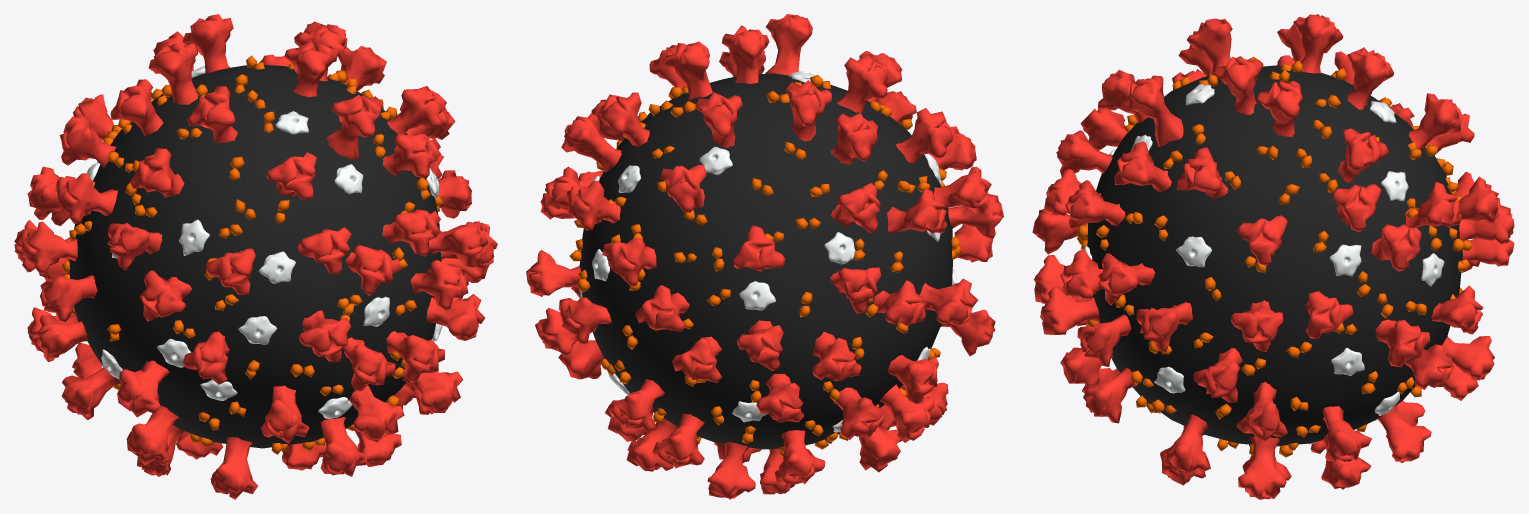
Rendered from corona.fbx.
3 renders of one model, left to right at view 1: azimuth 30°, elevation 25°; view 2: azimuth 150°, elevation 25°; view 3: azimuth 270°, elevation 25°, orthographic. The views are drawn at different scales.
Parts seen in each view (by area): view 1: Cube.007, Cube.102, Cube.038, Cube.097, Cube.032, Cube.009, Cube.003, Cube.089, Cube.095, Cube.028, Cube.027, Cube.024 (+44 smaller); view 2: Cube.007, Cube.012, Cube.077, Cube.102, Cube.023, Cube.036, Cube.098, Cube.101, Cube.055, Cube.080, Cube.038, Cube.017 (+40 smaller); view 3: Cube.007, Cube.102, Cube.088, Cube.071, Cube.097, Cube.056, Cube.070, Cube.018, Cube.095, Cube.028, Cube.057, Cube.021 (+44 smaller).
Boxes of the visible parts, left/top/right/bottom form: Cube.007: left=69, top=65, right=441, bottom=448; Cube.102: left=326, top=95, right=383, bottom=159; Cube.038: left=54, top=173, right=117, bottom=223; Cube.097: left=148, top=43, right=198, bottom=104; Cube.032: left=117, top=360, right=169, bottom=417; Cube.009: left=126, top=406, right=179, bottom=465; Cube.003: left=349, top=385, right=404, bottom=442; Cube.089: left=210, top=437, right=257, bottom=499; Cube.095: left=182, top=14, right=233, bottom=73; Cube.028: left=382, top=133, right=440, bottom=178; Cube.027: left=320, top=417, right=367, bottom=476; Cube.024: left=387, top=86, right=446, bottom=134; Cube.007: left=579, top=73, right=953, bottom=449; Cube.012: left=895, top=108, right=954, bottom=163; Cube.077: left=837, top=54, right=887, bottom=112; Cube.102: left=765, top=14, right=812, bottom=75; Cube.023: left=561, top=114, right=621, bottom=172; Cube.036: left=920, top=278, right=978, bottom=325; Cube.098: left=664, top=41, right=712, bottom=99; Cube.101: left=831, top=113, right=877, bottom=164; Cube.055: left=565, top=180, right=620, bottom=230; Cube.080: left=707, top=441, right=755, bottom=499; Cube.038: left=887, top=187, right=947, bottom=234; Cube.017: left=774, top=430, right=825, bottom=484; Cube.007: left=1087, top=65, right=1462, bottom=446; Cube.102: left=1121, top=75, right=1183, bottom=147; Cube.088: left=1238, top=437, right=1286, bottom=499; Cube.071: left=1040, top=287, right=1099, bottom=334; Cube.097: left=1293, top=14, right=1343, bottom=73; Cube.056: left=1375, top=319, right=1430, bottom=367; Cube.070: left=1065, top=180, right=1125, bottom=229; Cube.018: left=1408, top=93, right=1462, bottom=149; Cube.095: left=1347, top=50, right=1394, bottom=109; Cube.028: left=1114, top=141, right=1171, bottom=192; Cube.057: left=1322, top=406, right=1371, bottom=462; Cube.021: left=1165, top=414, right=1210, bottom=475.
Bounding box in the file's own units: 214 × 211 × 214.
